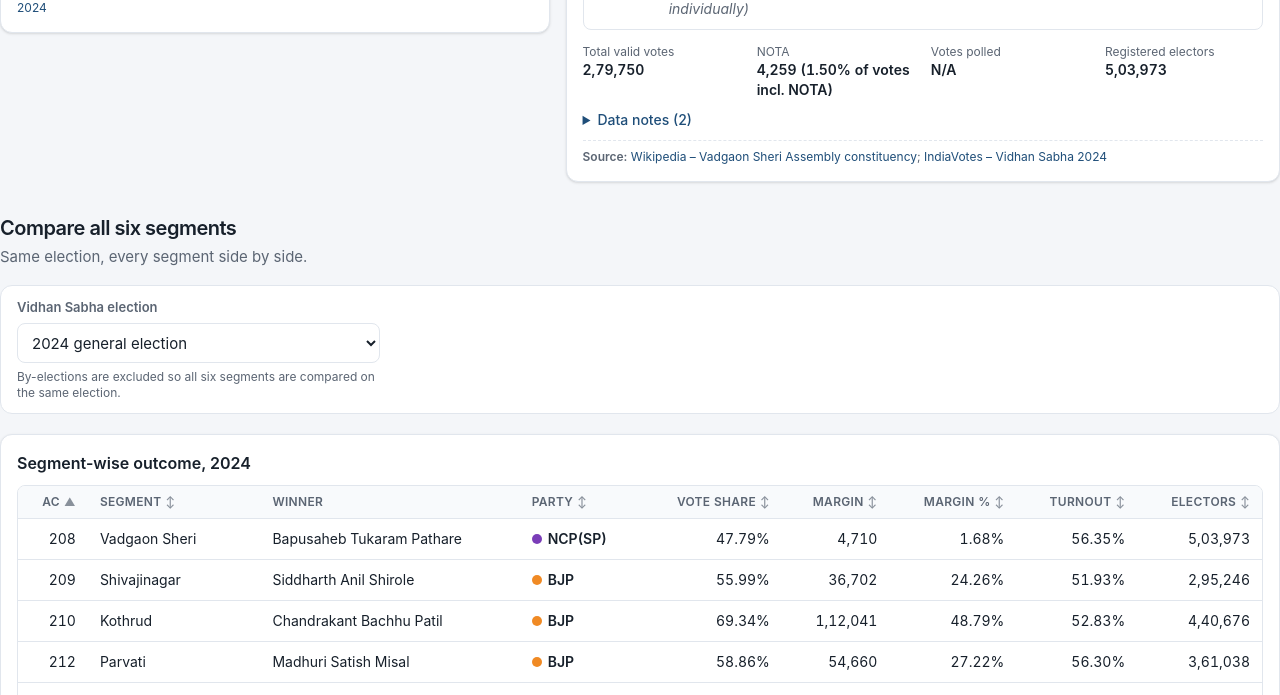
Test: Assembly page (real data) › comparison year select updates the cross-segment table
(page scrolled)
Select "2009 general election" in the dropdown labelled "Vidhan Sabha election": (199, 343) [17,323,380,363]
(page scrolled)
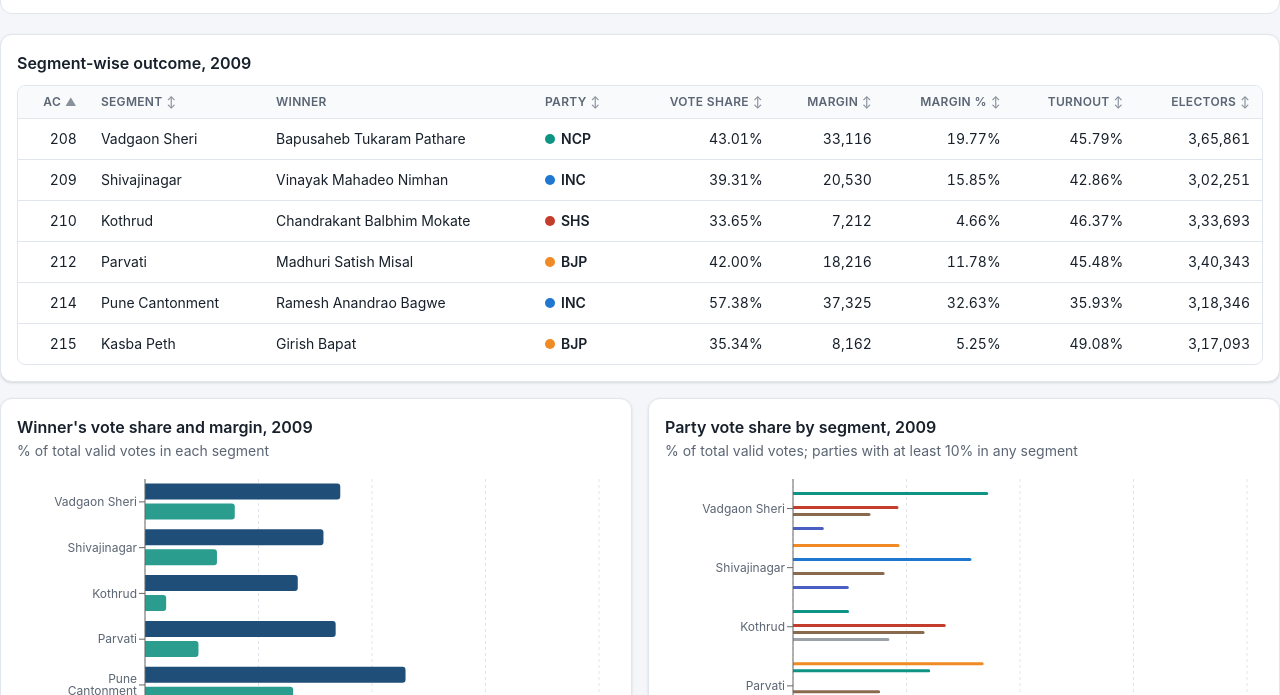
Result: the text "Girish Bapat" is shown at [276,335,356,352]
